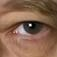eye: (23, 22, 42, 34)
